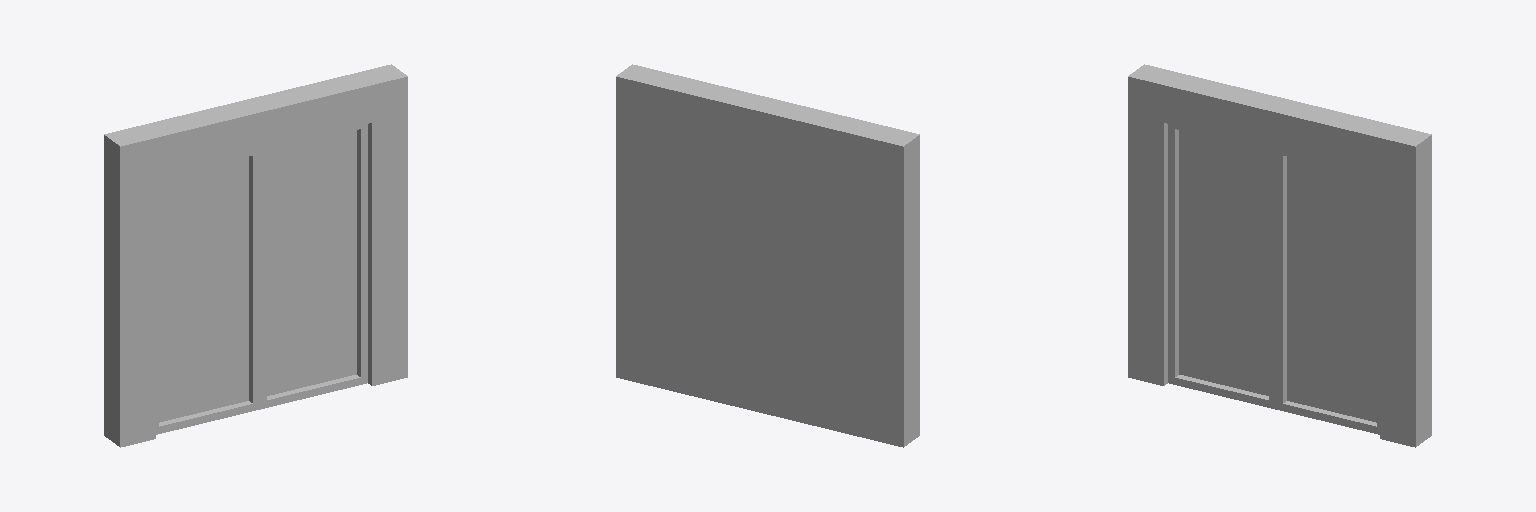
File: Bab bnk.obj
The picture shows the model from 3 angles: view 1: azimuth 30°, elevation 25°; view 2: azimuth 150°, elevation 25°; view 3: azimuth 330°, elevation 25°; orthographic projection.
Visible parts, largest first — view 1: object 1; view 2: object 1; view 3: object 1.
Part boxes in pixels (left/top/right/bottom): object 1: left=104, top=64, right=407, bottom=447; object 1: left=616, top=64, right=919, bottom=447; object 1: left=1128, top=64, right=1431, bottom=447.
Size of the model in its own units: 4 by 4 by 0.4.